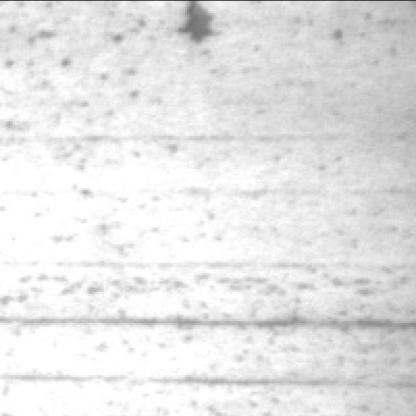inclusion: (177, 2, 227, 52)
pitted_surface: (6, 204, 412, 318), (2, 4, 183, 181)
